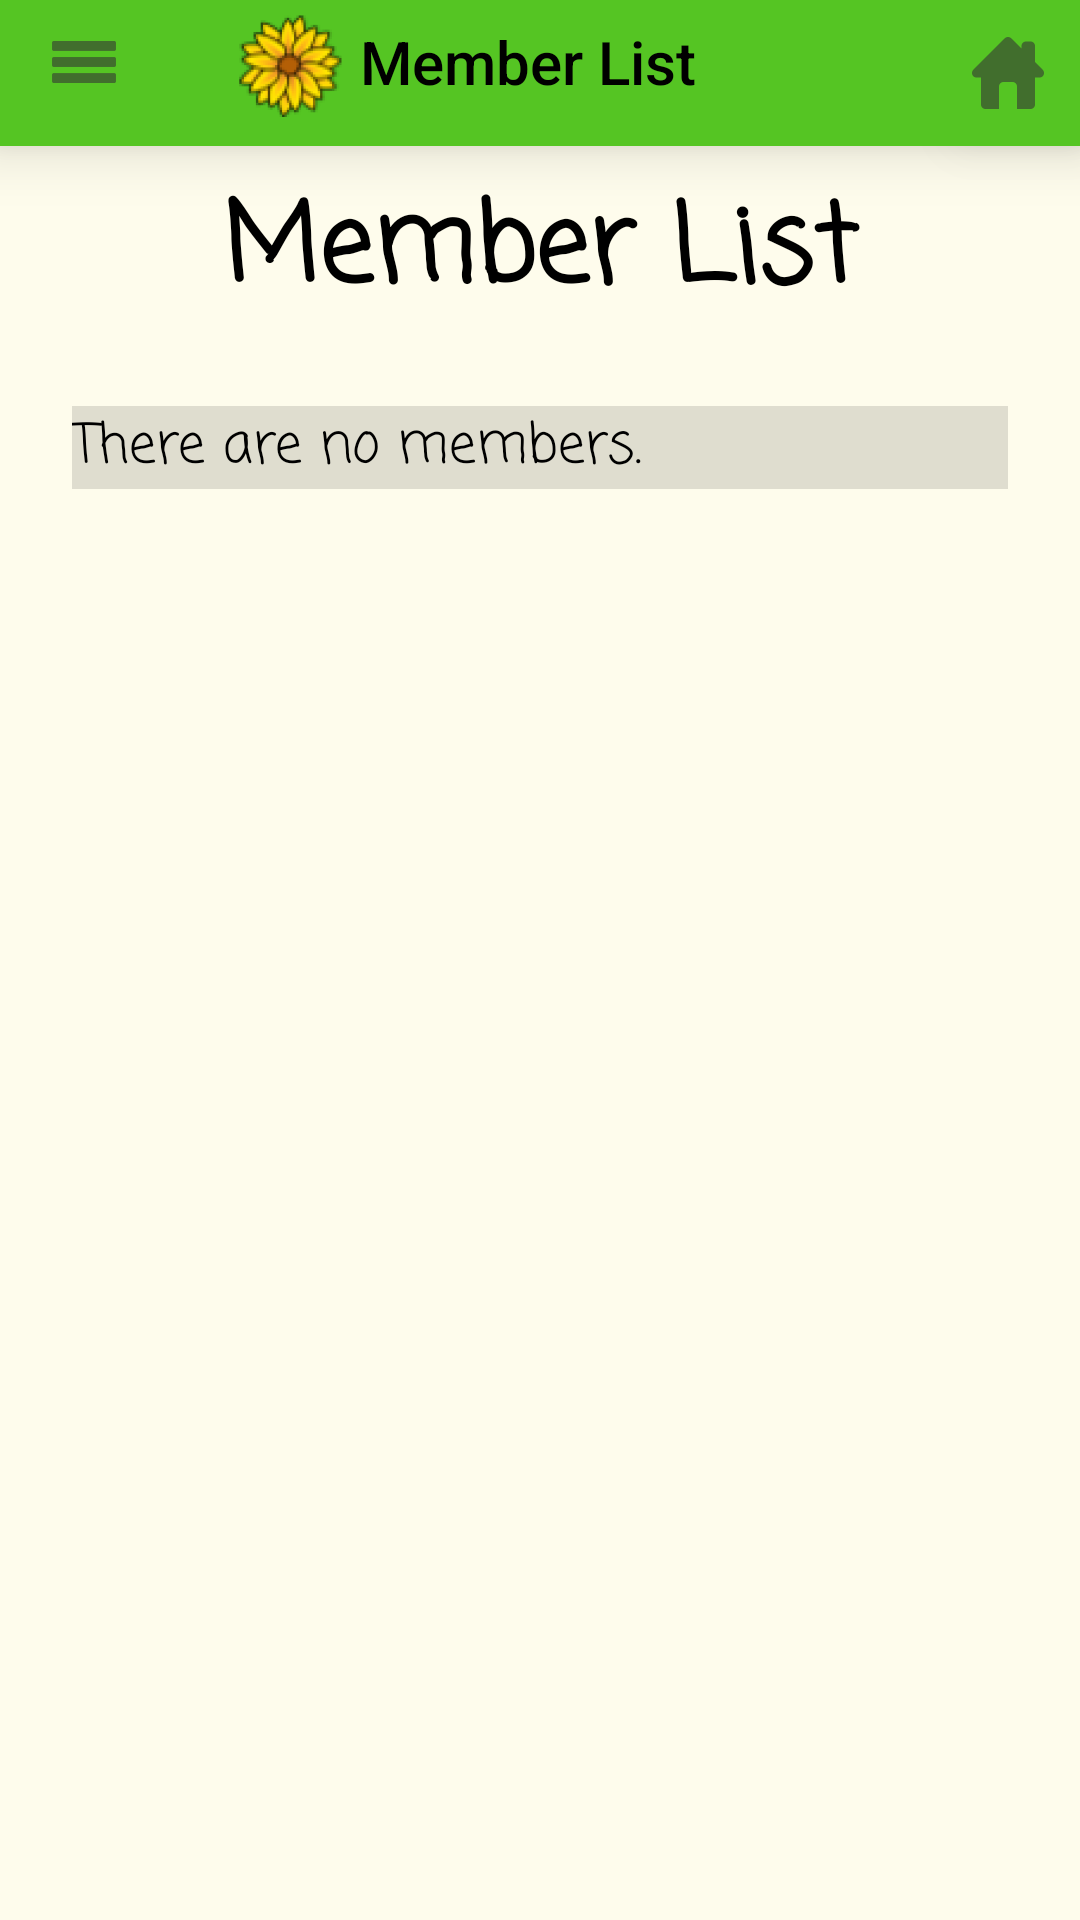

Named icons in this screenshot (1080 × 1920) and their centers, (x=x, y=y):
Home Page Button: (x=1008, y=73)
